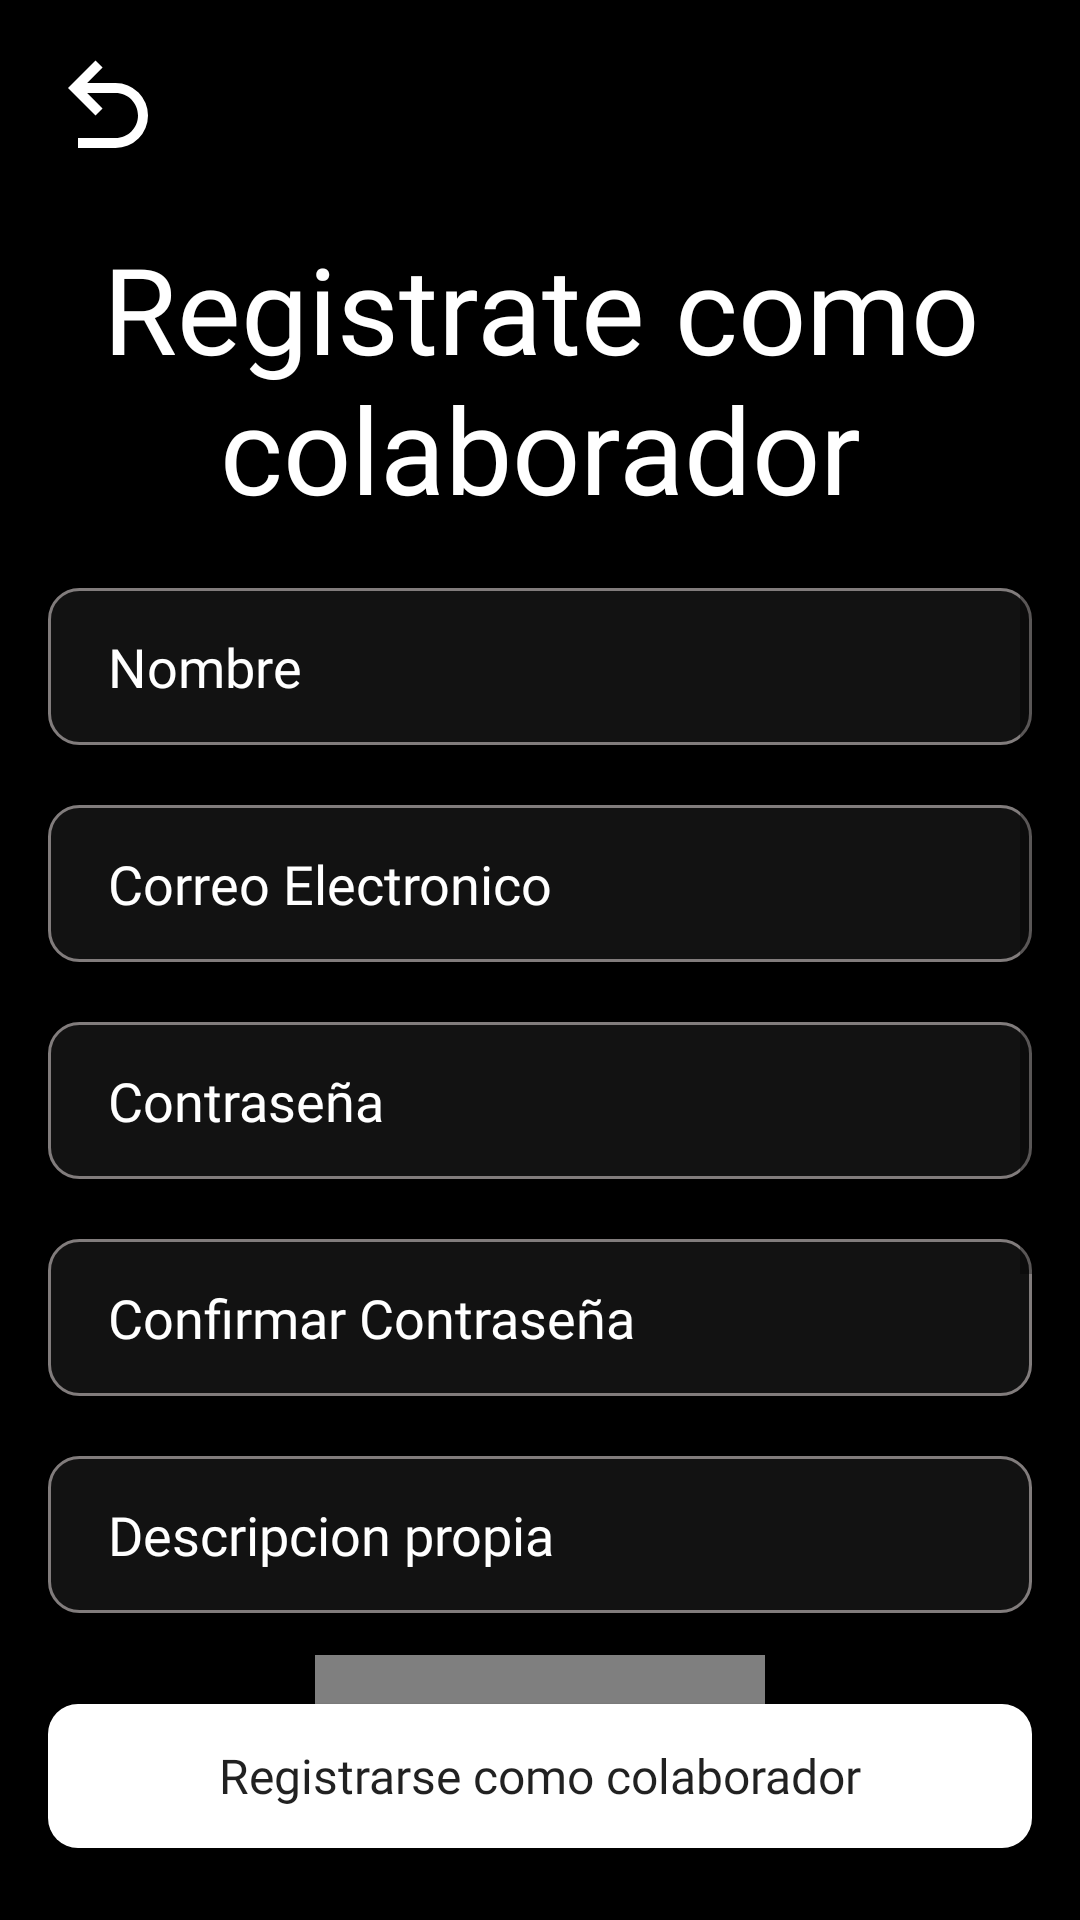

Icon bounding boxes for this 1080 x 1920 phone screenshot, format (x1, y1, x2, y2):
arrow left top: (68, 60, 148, 148)
